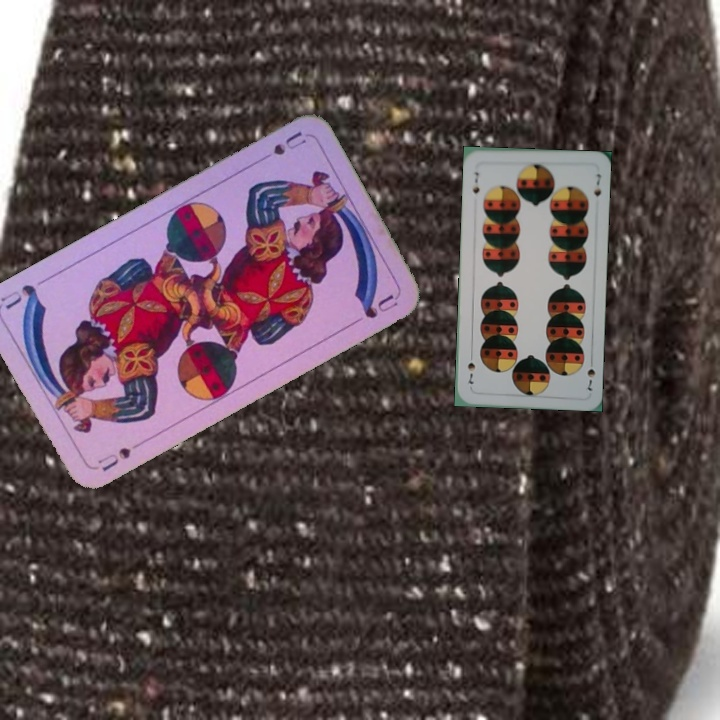S7: (583, 365, 598, 393), (469, 168, 482, 196)
SU: (254, 127, 309, 166), (93, 443, 134, 474)
